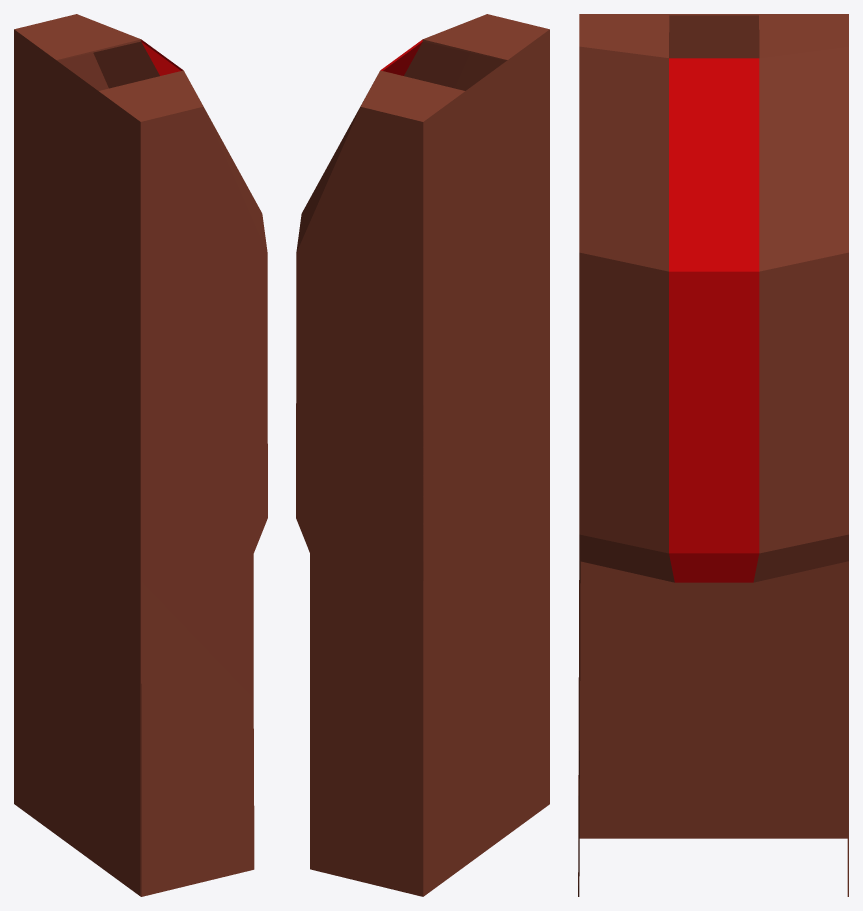
File: Hagrid_body.fbx
3 renders of one model, left to right at view 1: azimuth 30°, elevation 25°; view 2: azimuth 150°, elevation 25°; view 3: azimuth 270°, elevation 25°, orthographic. The views are drawn at different scales.
Parts seen in each view (by area): view 1: Cube; view 2: Cube; view 3: Cube.
Part boxes in pixels (left/top/right/bottom): Cube: left=14, top=14, right=267, bottom=896; Cube: left=296, top=14, right=549, bottom=896; Cube: left=578, top=14, right=848, bottom=896.
Bounding box in the file's own units: 149 × 675 × 201.
